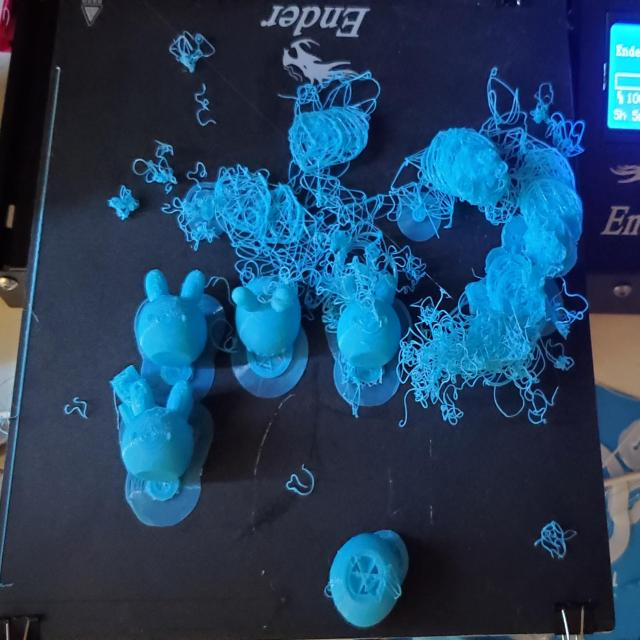spaghetti: (428, 79, 582, 444), (162, 106, 429, 280), (152, 22, 212, 79), (541, 505, 578, 584), (276, 460, 321, 508), (106, 178, 140, 226), (64, 378, 84, 427)
